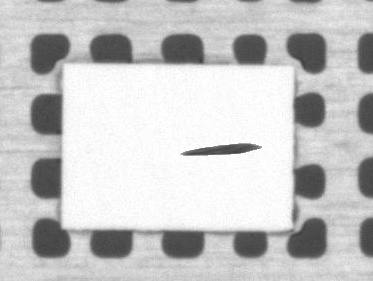DIE_INK: (235, 106, 348, 118)
